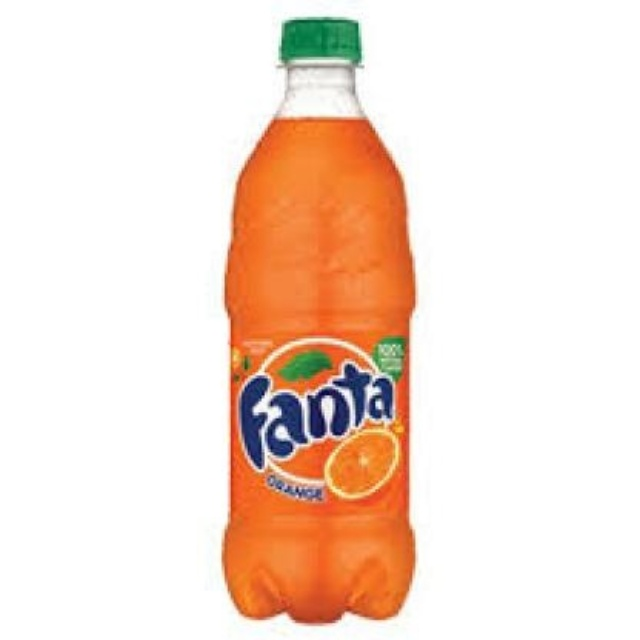trash: (223, 18, 414, 622)
